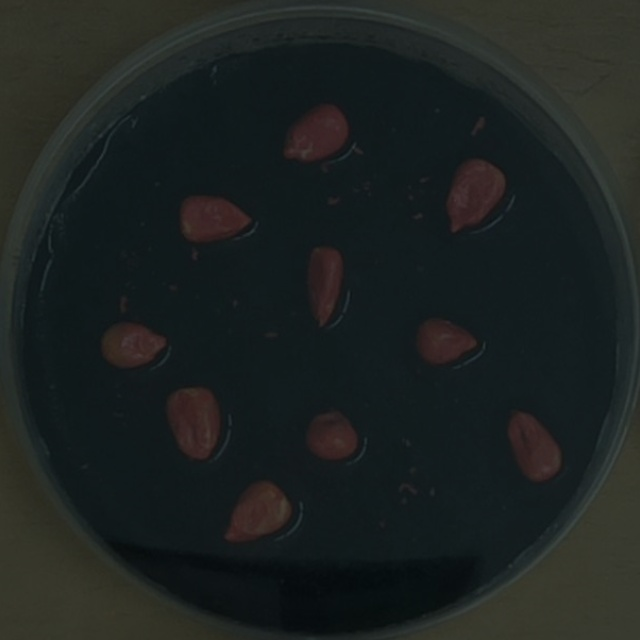Zea mays: (436, 148, 513, 240), (496, 398, 569, 488), (273, 93, 357, 171), (156, 378, 229, 467), (216, 473, 298, 550), (171, 185, 261, 249), (296, 236, 350, 334), (94, 314, 175, 375), (408, 308, 486, 371), (295, 399, 364, 466)
